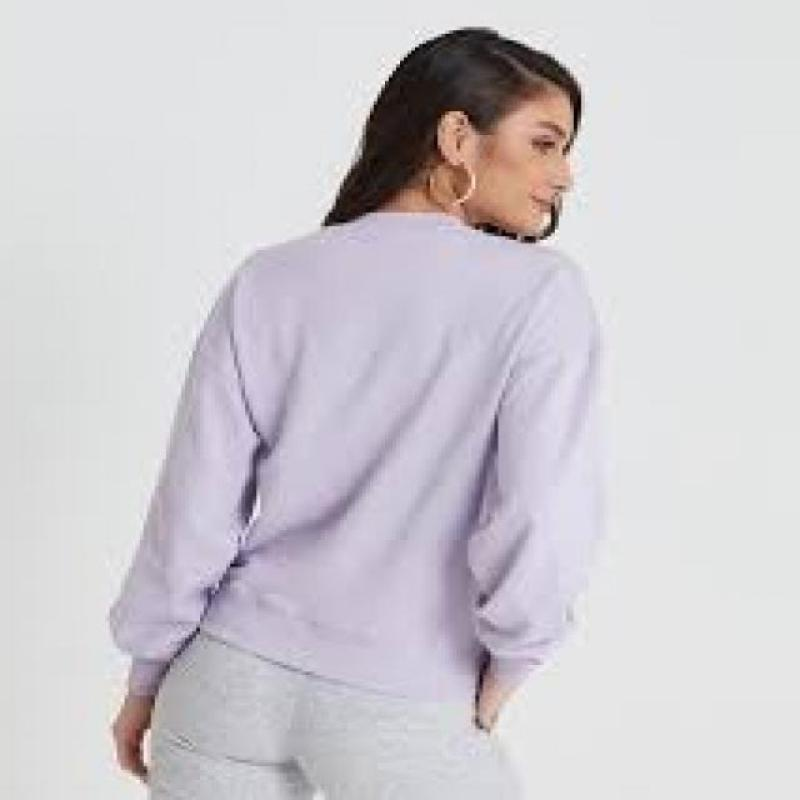sweater: (106, 207, 613, 697)
trousers: (145, 631, 530, 800)
